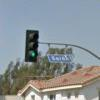Traffic light: (21, 23, 47, 71)
